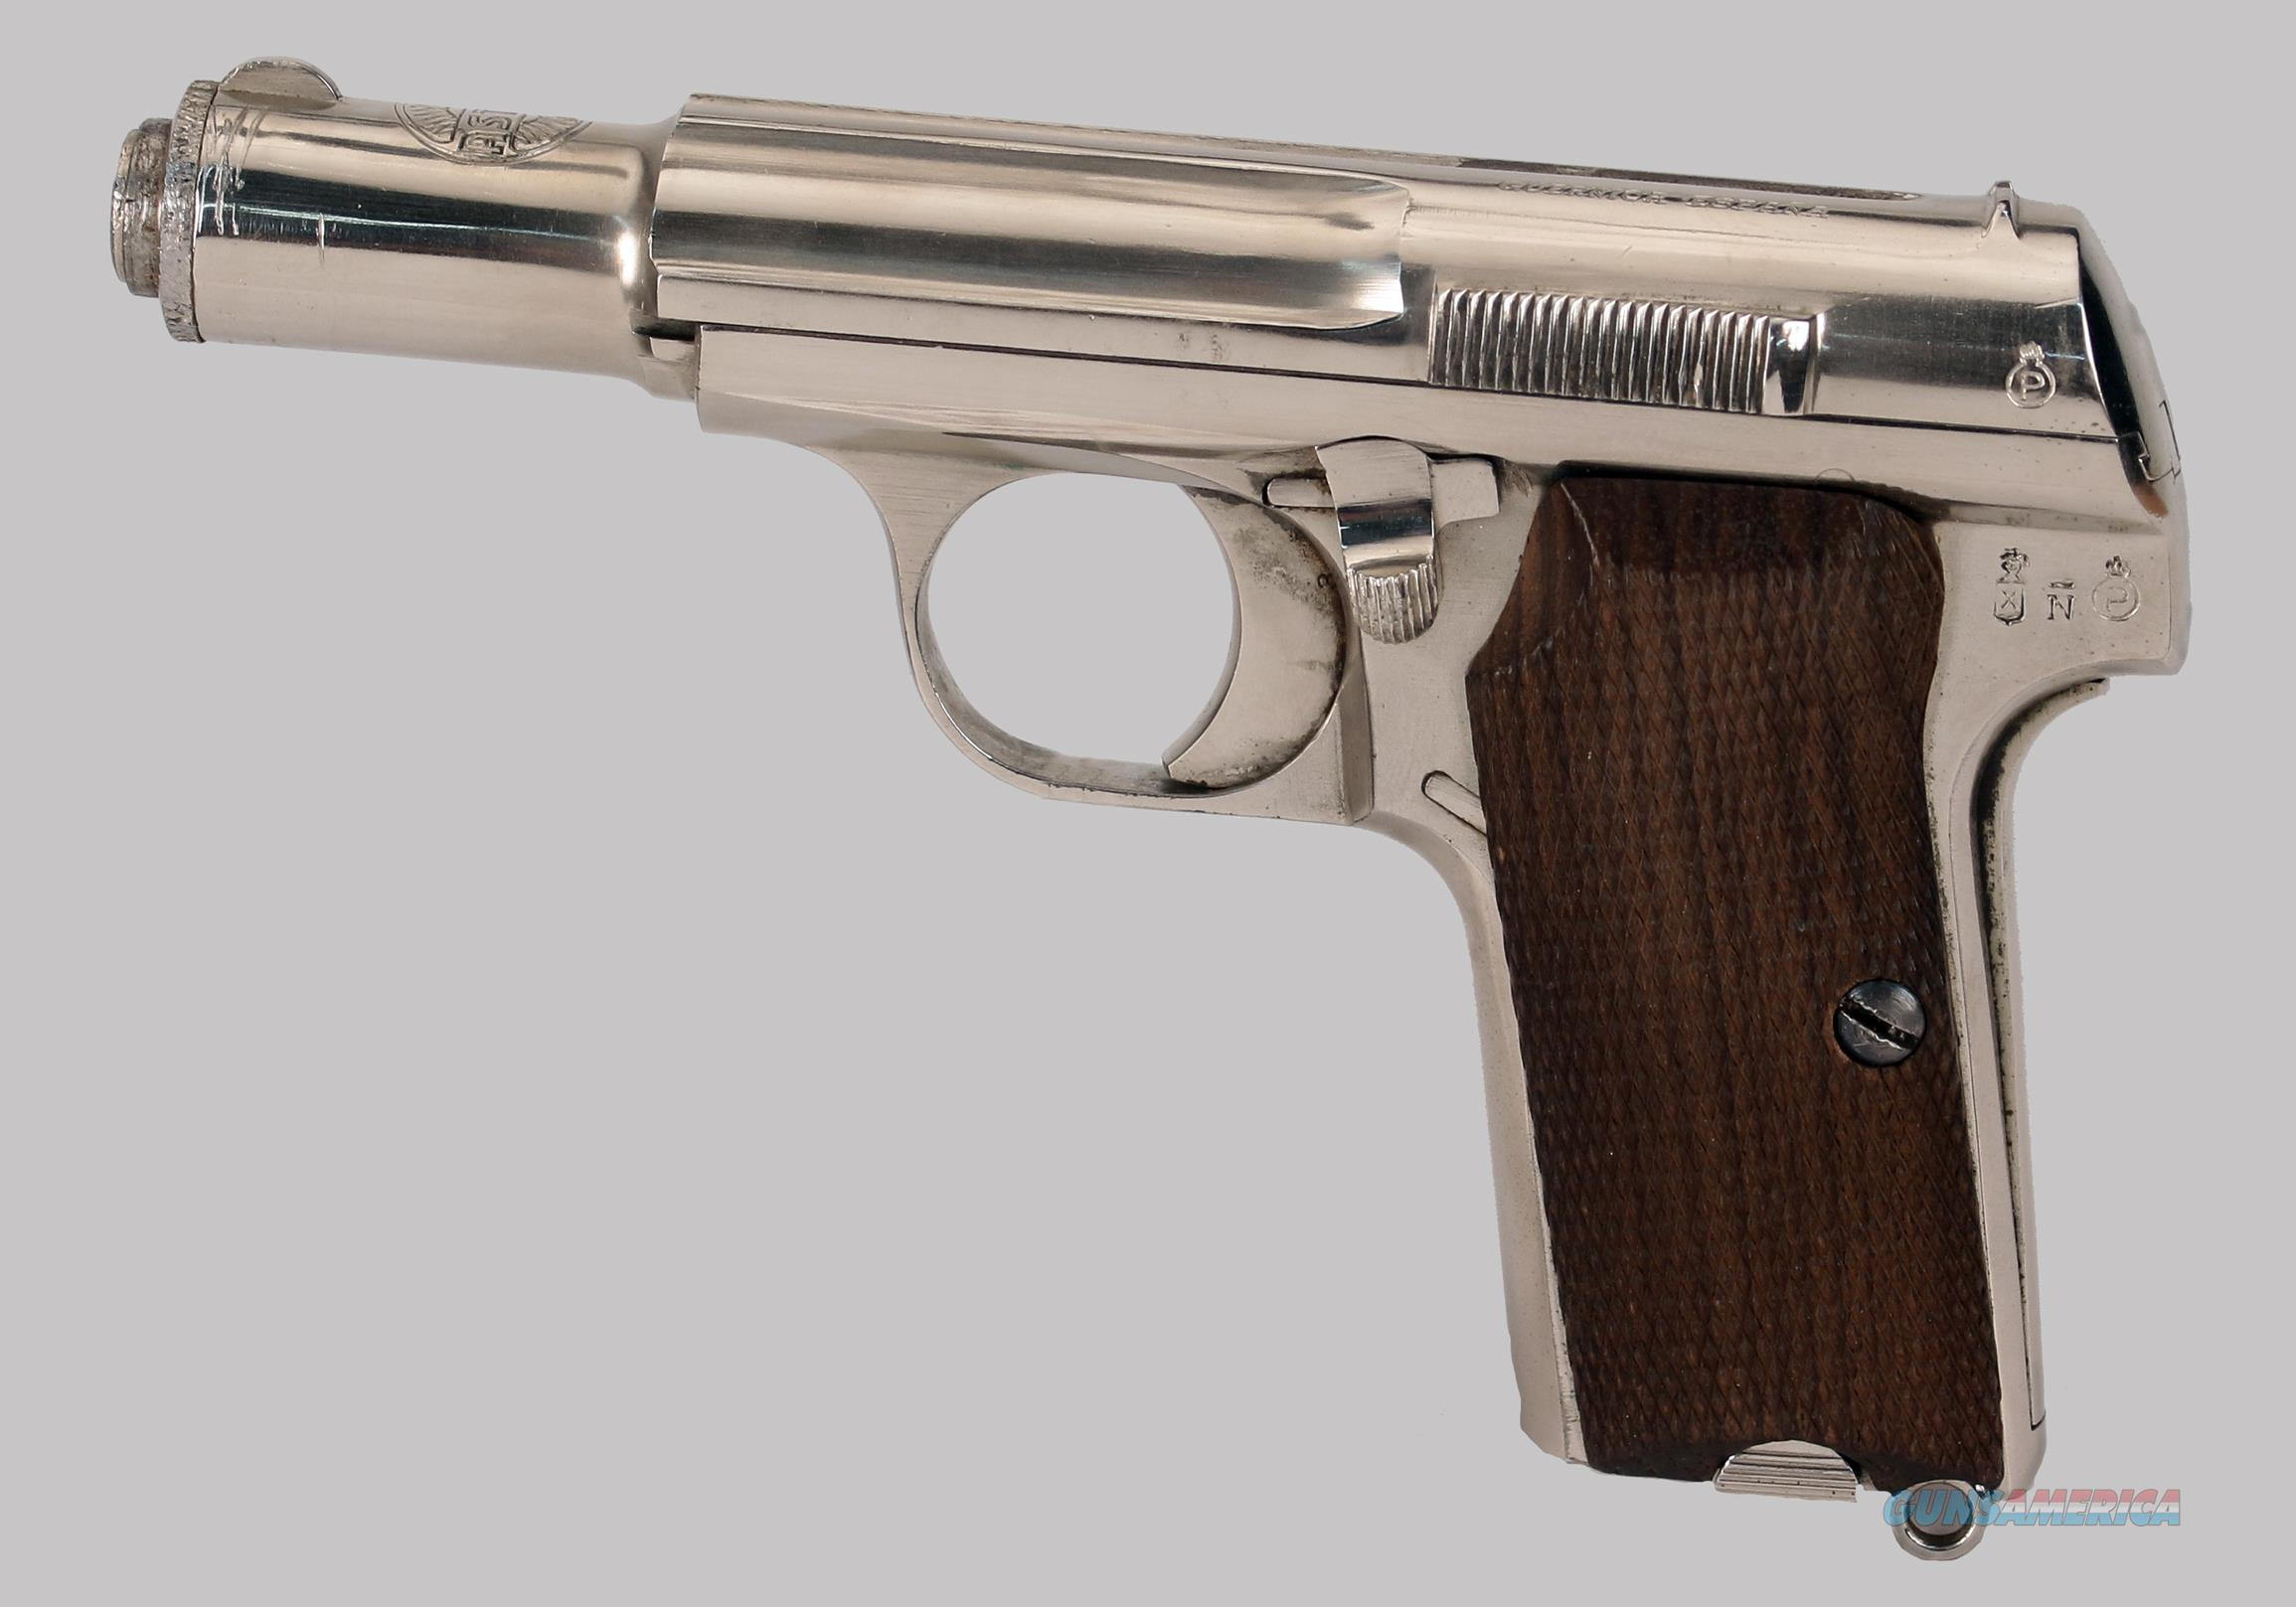gun: (99, 42, 2217, 1583)
